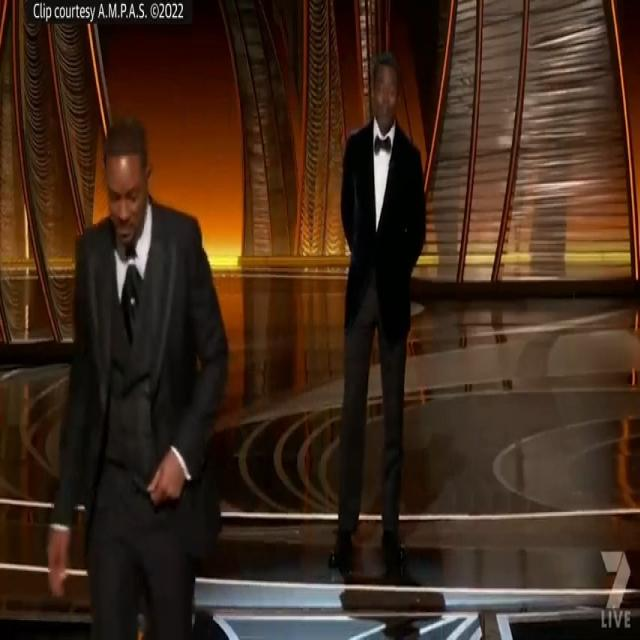non-fight: (36, 56, 229, 640), (324, 40, 441, 600)
